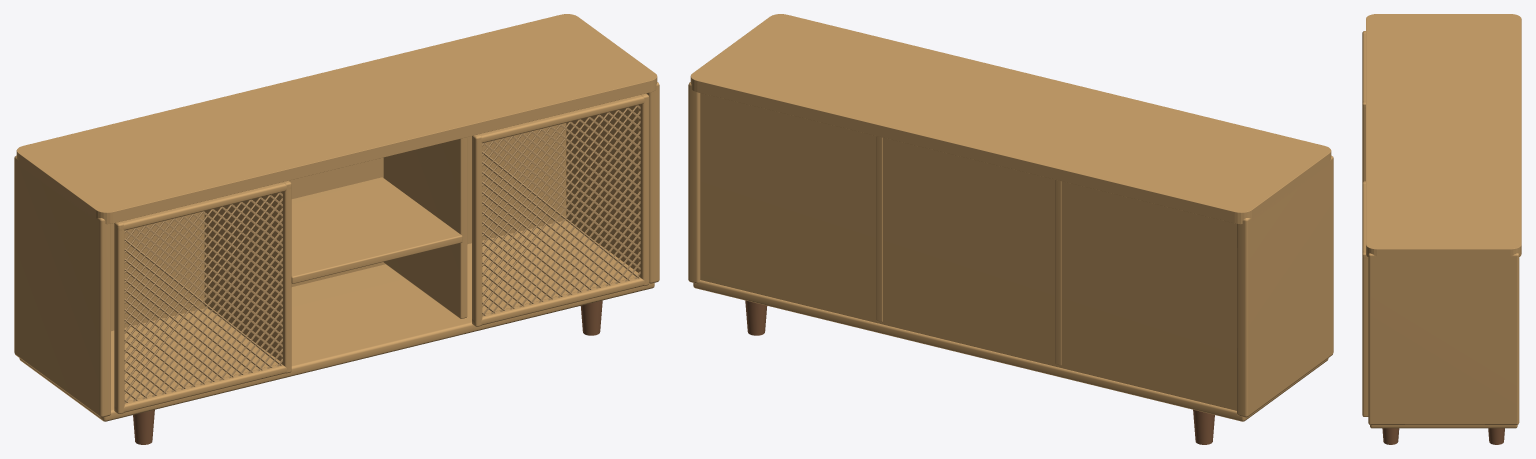
Rendered from designed-media-cane.glb.
3 renders of one model, left to right at view 1: azimuth 30°, elevation 25°; view 2: azimuth 150°, elevation 25°; view 3: azimuth 270°, elevation 25°, orthographic. The views are drawn at different scales.
Parts seen in each view (by area): view 1: catalog_surface_RealismUV; view 2: catalog_surface_RealismUV; view 3: catalog_surface_RealismUV.
Part boxes in pixels (left/top/right/bottom): catalog_surface_RealismUV: left=14, top=14, right=659, bottom=444; catalog_surface_RealismUV: left=688, top=14, right=1333, bottom=444; catalog_surface_RealismUV: left=1362, top=14, right=1521, bottom=444.
Size of the model in its own units: 1.4 by 0.6 by 0.4.
